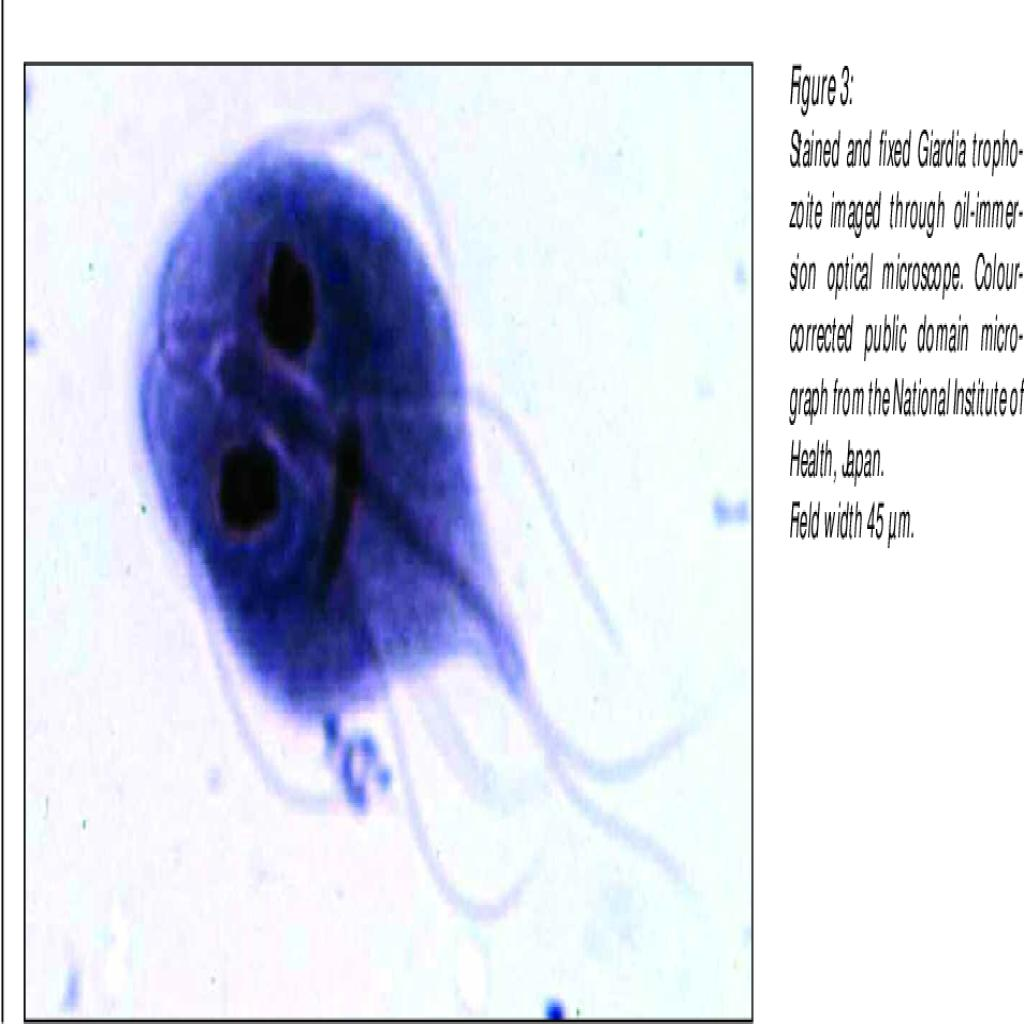Giardia: (118, 100, 532, 786)
